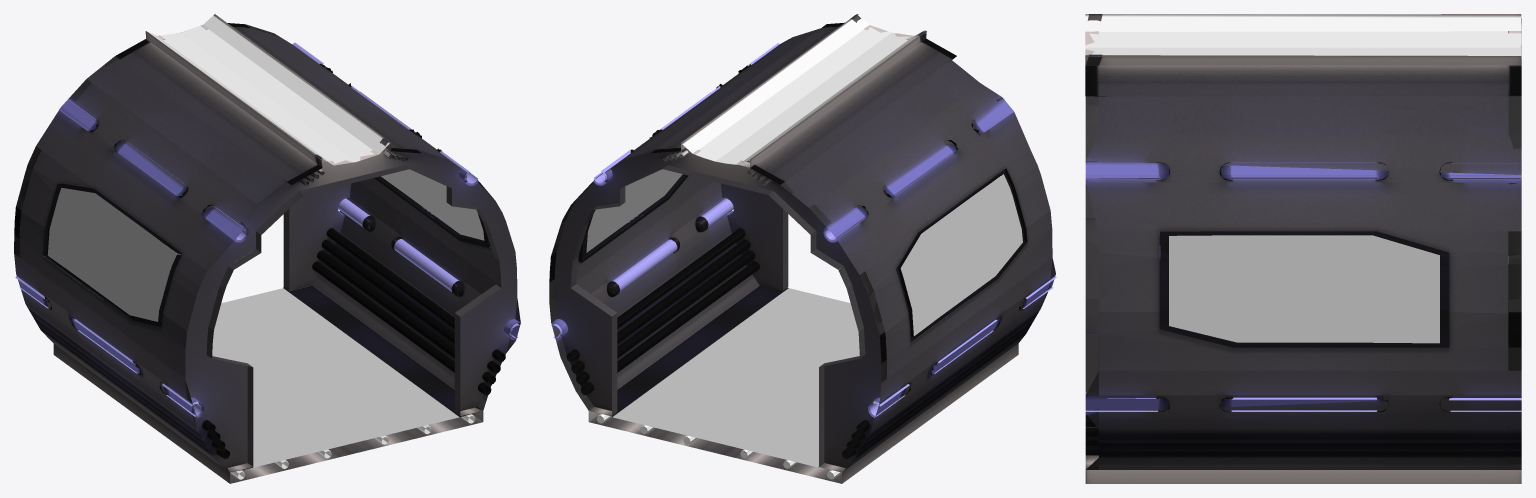
Rendered from Modulo_corridoio_low_poly.fbx.
The picture shows the model from 3 angles, left to right: view 1: azimuth 30°, elevation 25°; view 2: azimuth 150°, elevation 25°; view 3: azimuth 270°, elevation 25°; orthographic projection. The views are drawn at different scales.
Visible parts, largest first — view 1: Corridoio_001, Pavimento_001, Vetri; view 2: Corridoio_001, Pavimento_001, Vetri; view 3: Corridoio_001, Vetri.
Boxes of the visible parts, x1,y1,x2,y2 form: Corridoio_001: (14,14,520,483); Pavimento_001: (196,288,459,467); Vetri: (47,169,484,321); Corridoio_001: (549,14,1056,483); Pavimento_001: (613,288,875,467); Vetri: (586,169,1022,335); Corridoio_001: (1085,14,1521,483); Vetri: (1169,235,1439,343).
Size of the model in its own units: 7.03 by 6.1 by 6.47.
